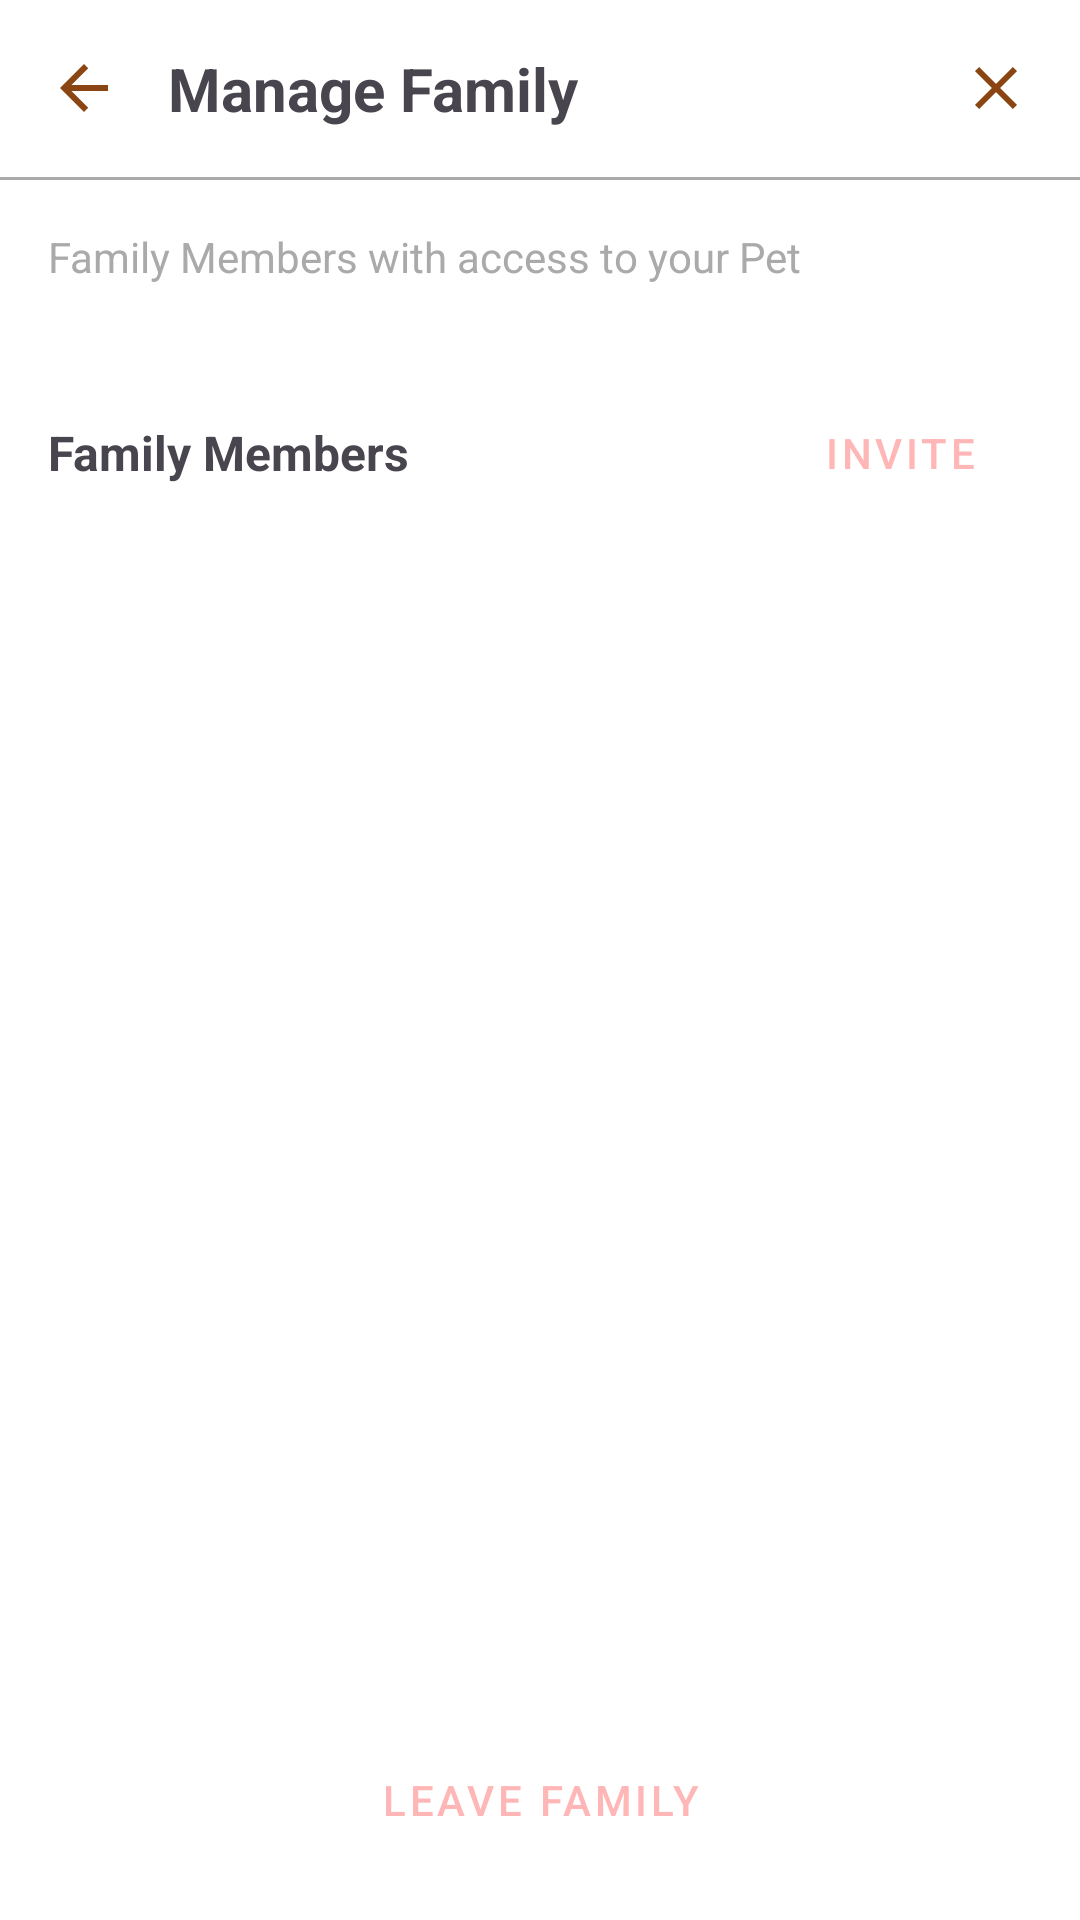

Screen size 1080x1920. Icon name, then its center in pixels as [x,y]:
Back: [84,88]
Close: [996,88]
